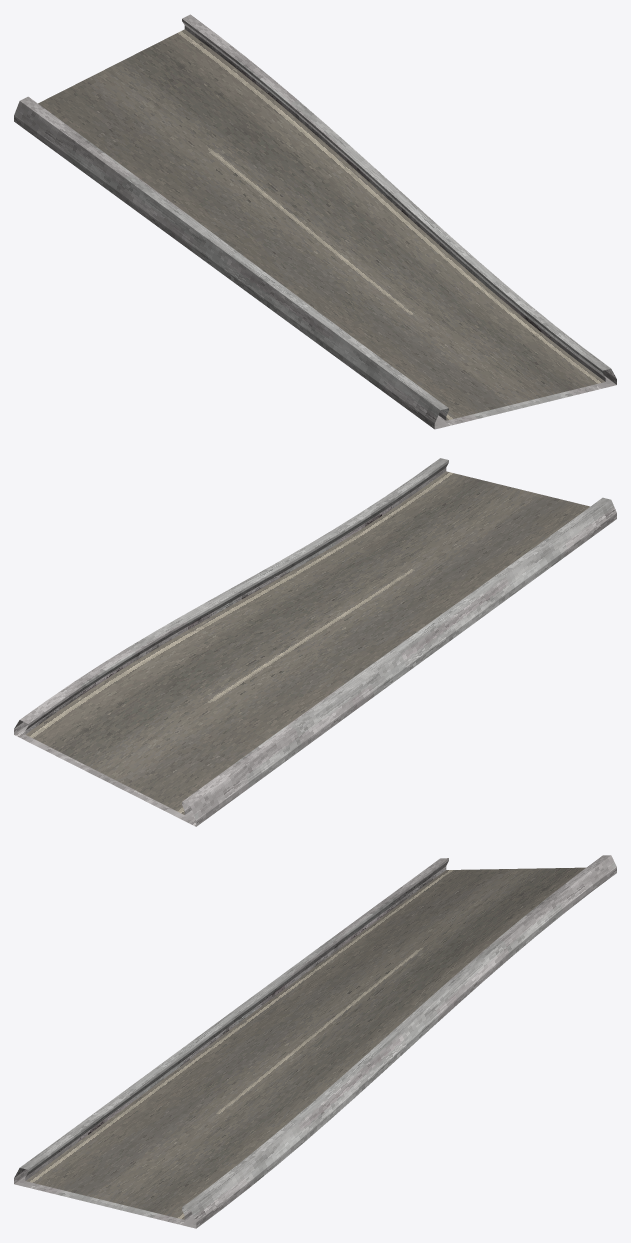
File: road-Straight-Flat-HalfBankedLeft-Even-Center-Size4.glb
3 renders of one model, top to bottom at view 1: azimuth 30°, elevation 25°; view 2: azimuth 150°, elevation 25°; view 3: azimuth 330°, elevation 25°, orthographic.
Parts seen in each view (by area): view 1: road-Straight-Flat-HalfBankedLeft-Even-Center-Size4; view 2: road-Straight-Flat-HalfBankedLeft-Even-Center-Size4; view 3: road-Straight-Flat-HalfBankedLeft-Even-Center-Size4.
Boxes of the visible parts, x1,y1,x2,y2 form: road-Straight-Flat-HalfBankedLeft-Even-Center-Size4: (14,14,616,429); road-Straight-Flat-HalfBankedLeft-Even-Center-Size4: (14,458,616,826); road-Straight-Flat-HalfBankedLeft-Even-Center-Size4: (14,855,616,1228).
Bounding box in the file's own units: 1 × 0.3359 × 4.
2 materials, 2 textured.
